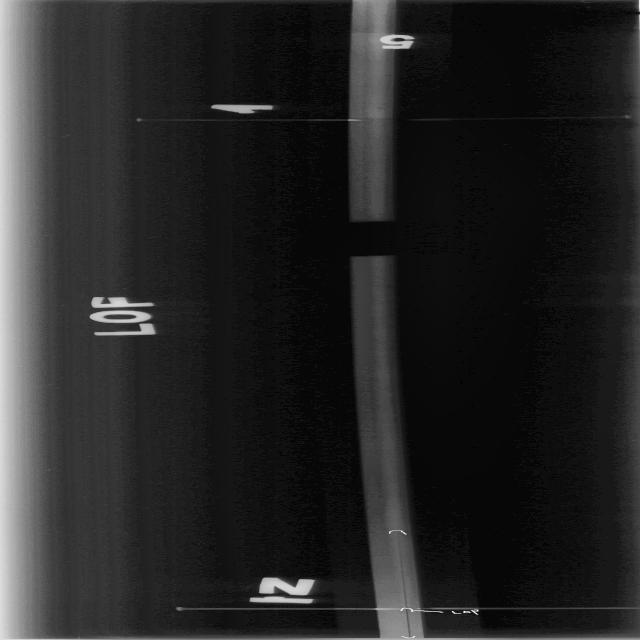LOP: (389, 558, 419, 638), (392, 534, 405, 557)
